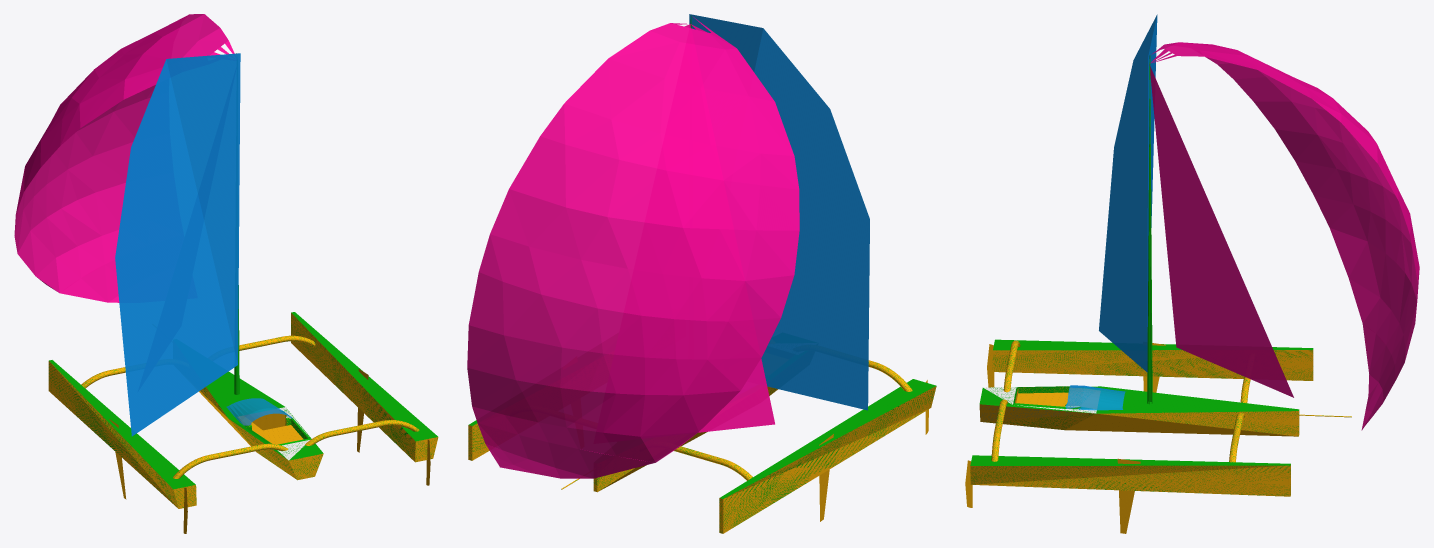
The model's file is spi_tribord_trimaran.dae.
The picture shows the model from 3 angles, left to right: view 1: azimuth 30°, elevation 25°; view 2: azimuth 150°, elevation 25°; view 3: azimuth 270°, elevation 25°; orthographic projection. The views are drawn at different scales.
Parts seen in each view (by area): view 1: SketchUp (×13); view 2: SketchUp (×6); view 3: SketchUp (×16).
Part boxes in pixels (x1,y1,x2,y2): SketchUp (×13): (14, 14, 438, 508); SketchUp (×6): (467, 14, 936, 533); SketchUp (×16): (970, 14, 1419, 533).
Size of the model in its own units: 94296 by 130584 by 137586.
Materials: 21 (5 with a texture image).
